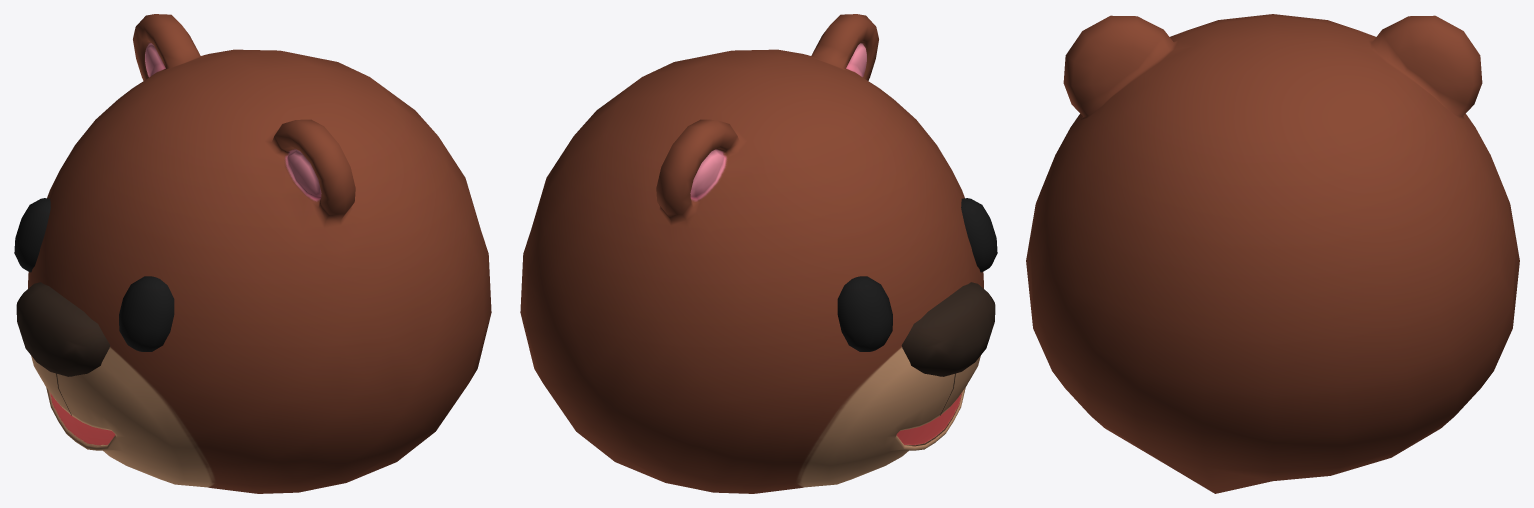
File: bear2.glb
3 views of the same model, side by side, from view 1: azimuth 30°, elevation 25°; view 2: azimuth 150°, elevation 25°; view 3: azimuth 270°, elevation 25° (orthographic). The views are drawn at different scales.
Visible parts, largest first — view 1: BearHead, BearHead_BearHead_02_0.001; view 2: BearHead, BearHead_BearHead_02_0.001; view 3: BearHead.
Boxes of the visible parts, x1,y1,x2,y2 form: BearHead: (14, 14, 491, 493); BearHead_BearHead_02_0.001: (119, 276, 174, 351); BearHead: (520, 14, 995, 493); BearHead_BearHead_02_0.001: (961, 198, 997, 272); BearHead: (1026, 14, 1519, 493).
Bounding box in the file's own units: 44.38 × 39.72 × 42.37.
4 materials, 4 textured.
